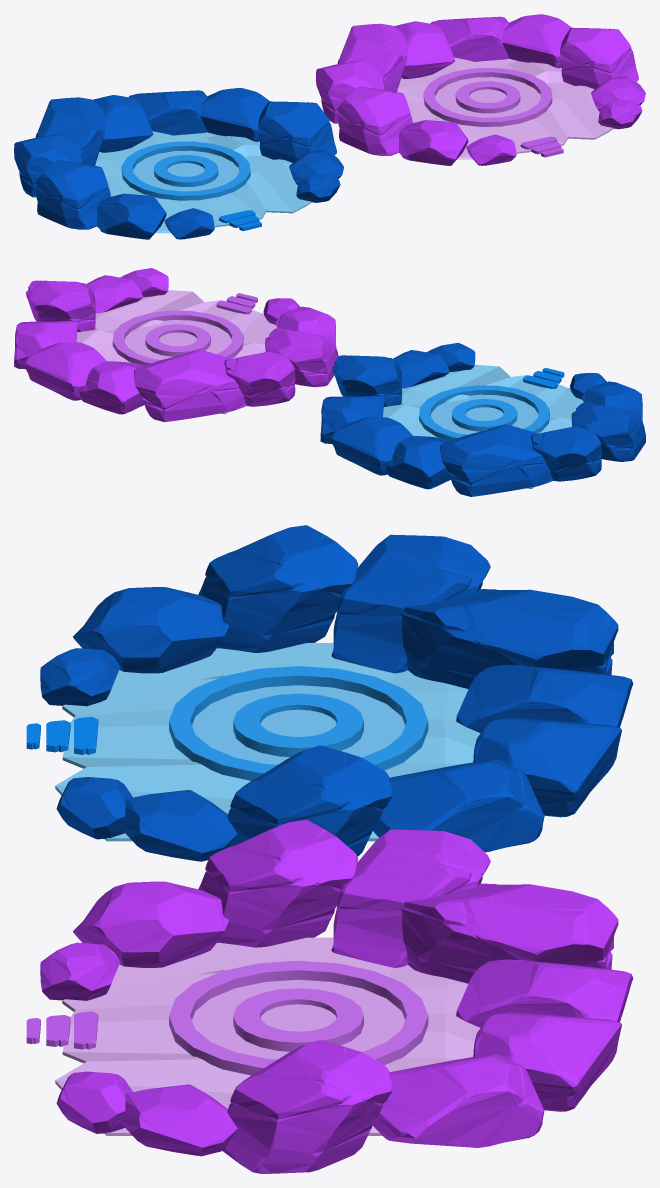
Rendered from Dragon_habitat_v2.fbx.
3 views of the same model, one above another, from view 1: azimuth 30°, elevation 25°; view 2: azimuth 150°, elevation 25°; view 3: azimuth 270°, elevation 25° (orthographic). The views are drawn at different scales.
Visible parts, largest first — view 1: polySurface147, polySurface147.001; view 2: polySurface147, polySurface147.001; view 3: polySurface147.001, polySurface147.
Boxes of the visible parts, left/top/right/bottom form: polySurface147: left=14, top=88, right=343, bottom=239; polySurface147.001: left=316, top=14, right=645, bottom=165; polySurface147: left=320, top=343, right=645, bottom=496; polySurface147.001: left=14, top=268, right=338, bottom=422; polySurface147.001: left=26, top=819, right=633, bottom=1173; polySurface147: left=26, top=525, right=633, bottom=861.
Bounding box in the file's own units: 22042 × 1556 × 9803.
